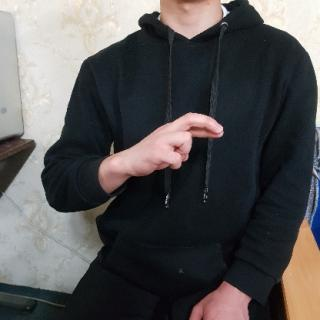ZAY: (127, 110, 226, 176)
